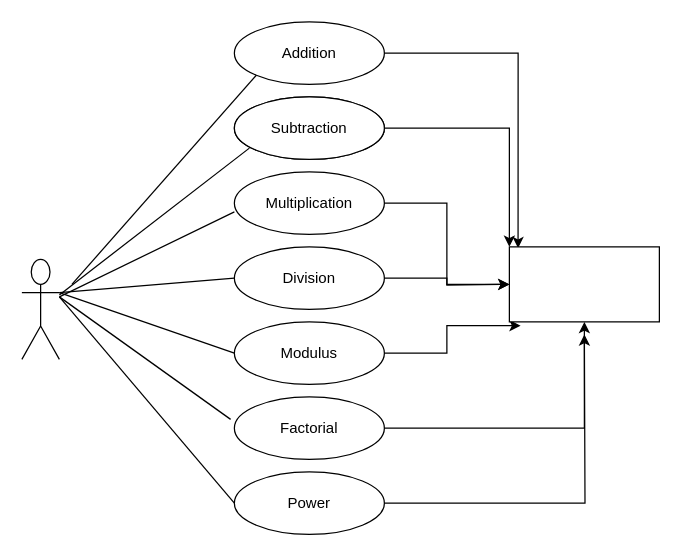
Some shapes in this 681 by 556 pixel diagram are drawn without their labels. Each missing label, with the centre of its shape:
Terminal output.: the point at 583,284
User: the point at 40,308
